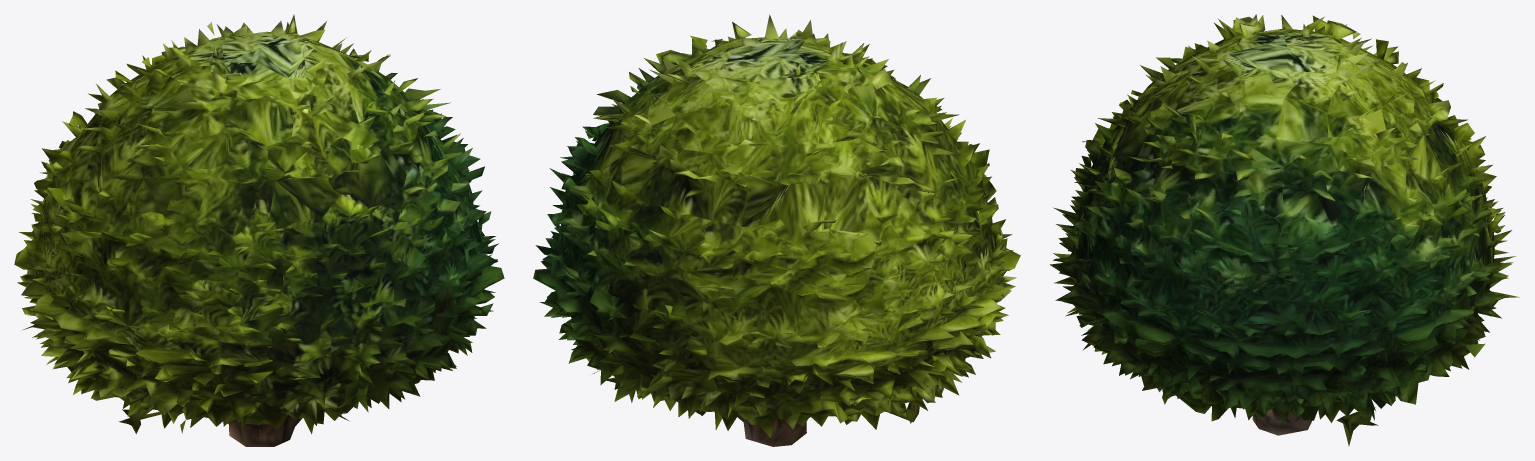
The model's file is bush.glb.
The picture shows the model from 3 angles, left to right: view 1: azimuth 30°, elevation 25°; view 2: azimuth 150°, elevation 25°; view 3: azimuth 270°, elevation 25°; orthographic projection. The views are drawn at different scales.
Visible parts, largest first — view 1: tripo_node_ec11f78a-0f7f-46e2-9497-4d6650aa69cb; view 2: tripo_node_ec11f78a-0f7f-46e2-9497-4d6650aa69cb; view 3: tripo_node_ec11f78a-0f7f-46e2-9497-4d6650aa69cb.
Boxes of the visible parts, x1,y1,x2,y2 form: tripo_node_ec11f78a-0f7f-46e2-9497-4d6650aa69cb: [14, 14, 504, 446]; tripo_node_ec11f78a-0f7f-46e2-9497-4d6650aa69cb: [533, 14, 1020, 446]; tripo_node_ec11f78a-0f7f-46e2-9497-4d6650aa69cb: [1050, 14, 1519, 446].
Bounding box in the file's own units: 1.14 × 1 × 1.12.
Materials: 1 (1 with a texture image).
